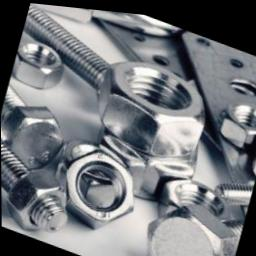Non-corroded Nut: (101, 59, 203, 154), (63, 144, 133, 220), (11, 42, 64, 89), (219, 96, 256, 147)
